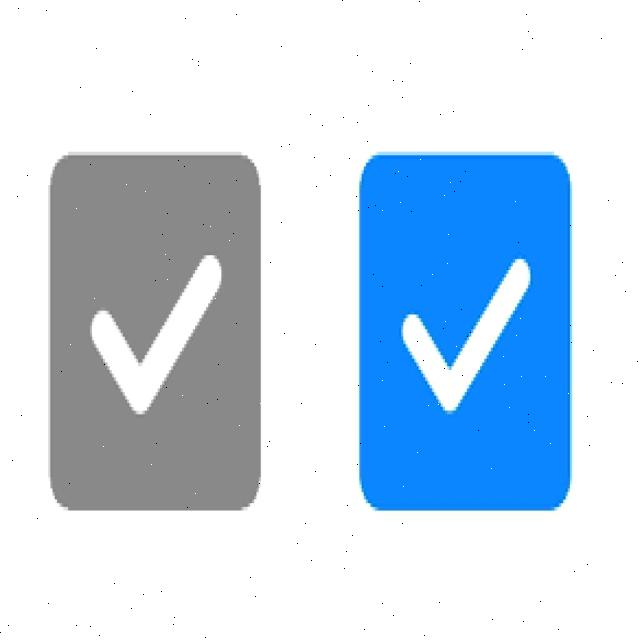checkbox: (358, 153, 573, 512), (49, 155, 260, 510)
